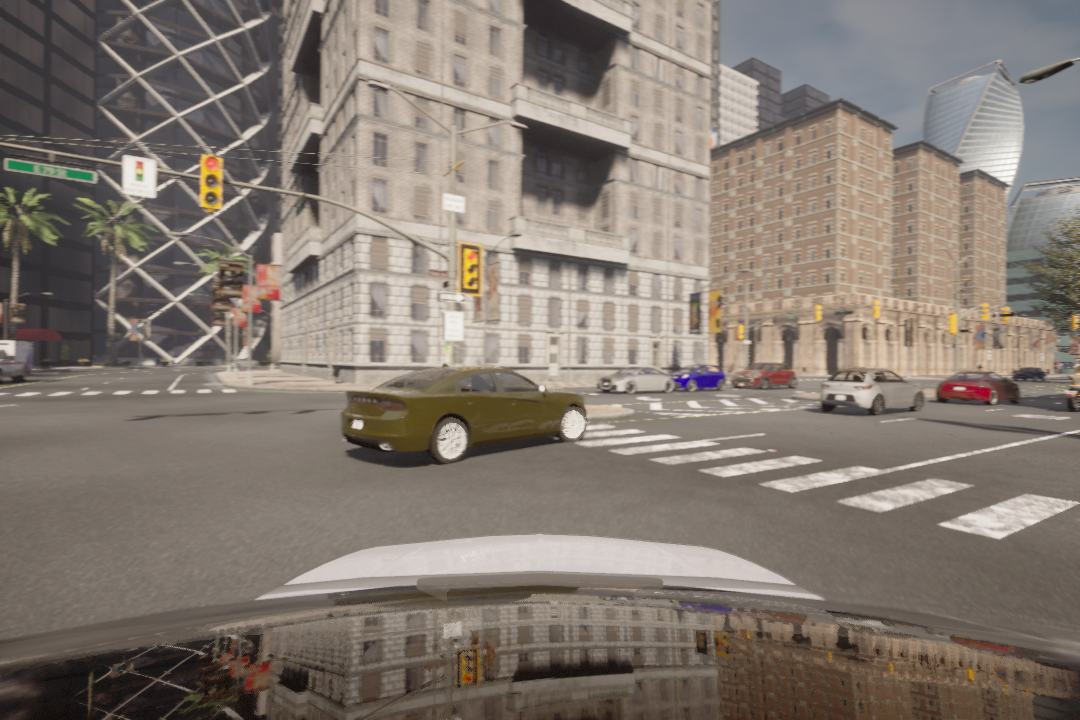TrafficLight: (462, 244, 484, 298), (201, 153, 220, 207)
walkside: (543, 414, 1080, 547)
